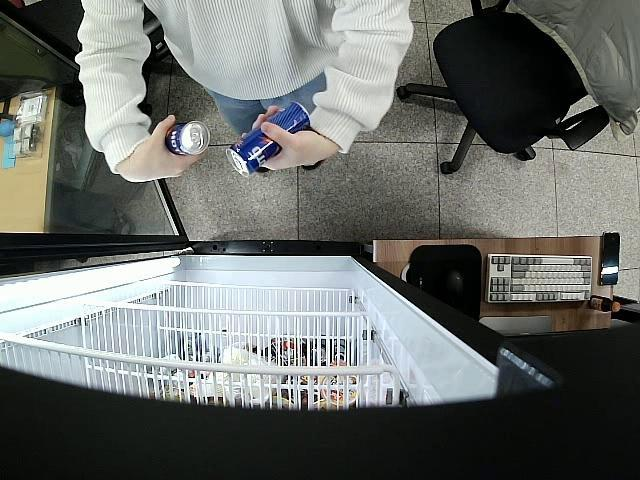16_hot6: (224, 104, 311, 178), (158, 119, 212, 156)
